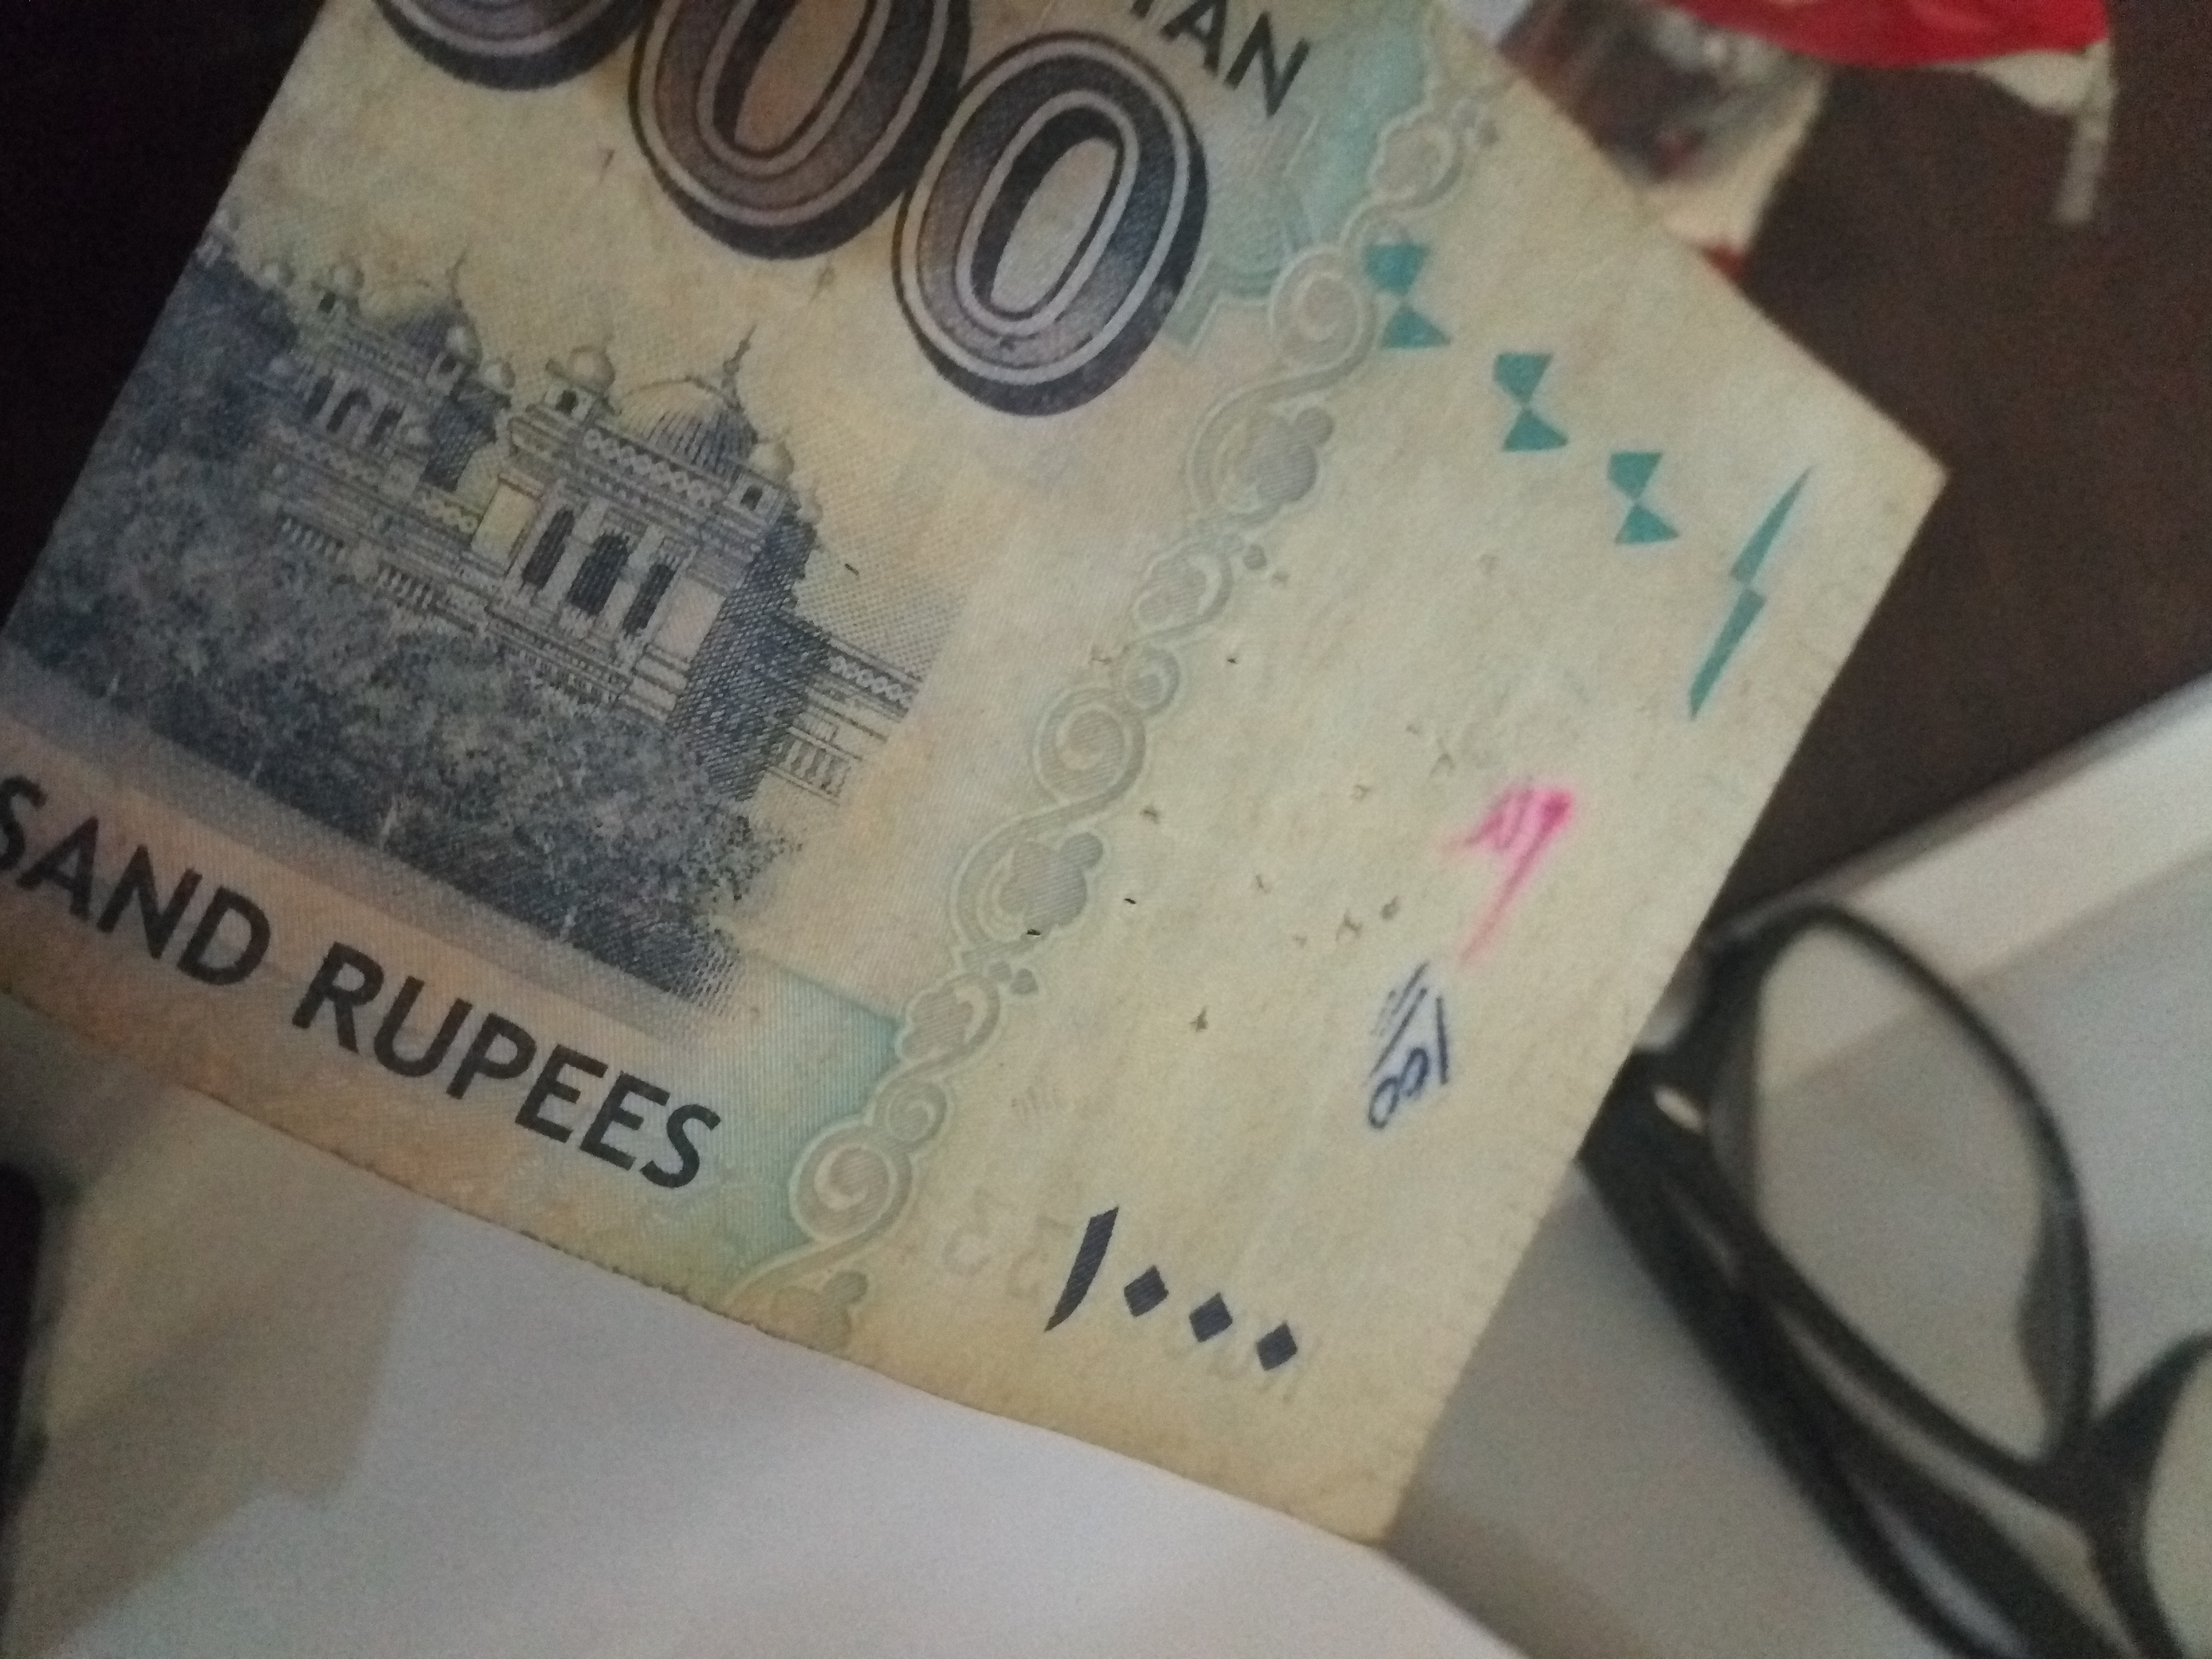1000 rupee: (61, 49, 2095, 1659)
